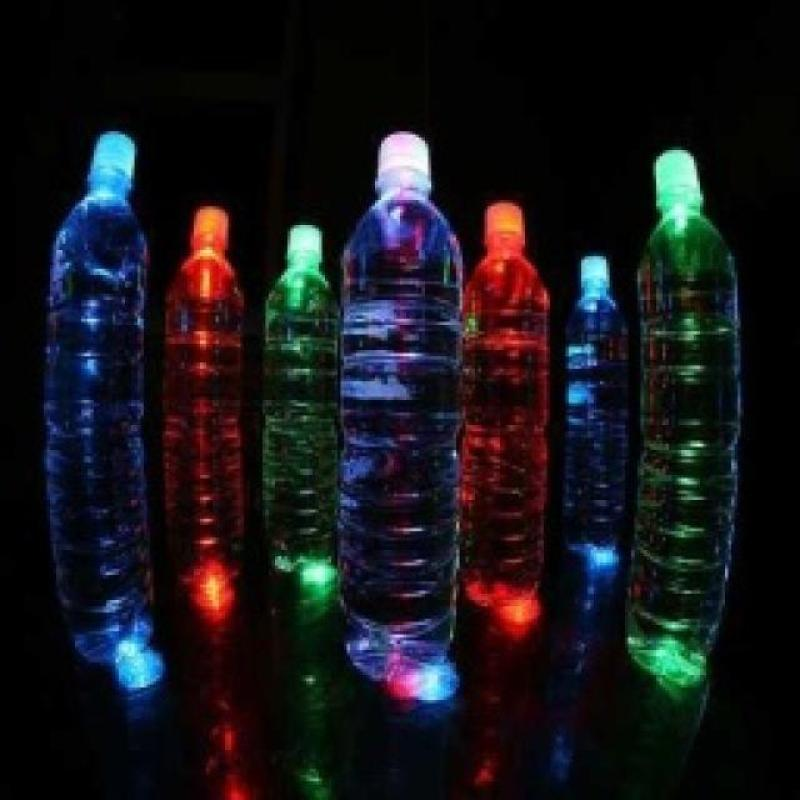botella: (334, 130, 466, 442), (43, 130, 147, 442), (642, 149, 742, 461), (462, 203, 556, 428), (160, 206, 245, 422), (264, 222, 336, 428), (558, 253, 632, 438)
